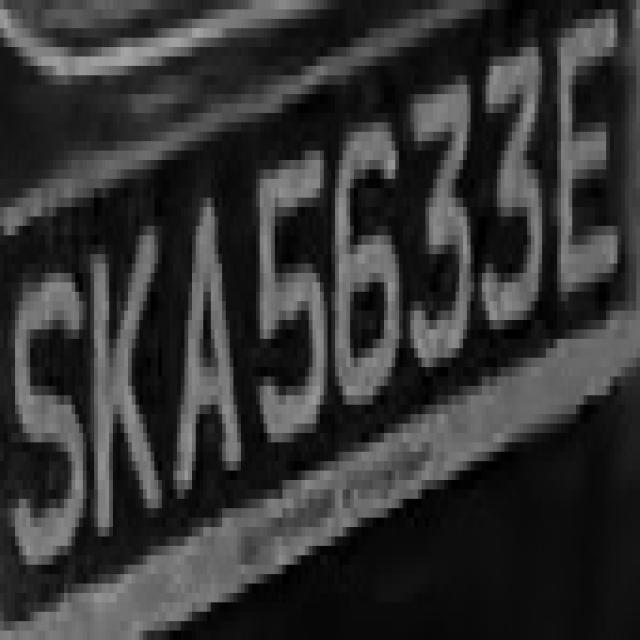3: (396, 66, 490, 395), (482, 47, 538, 367)
5: (256, 113, 331, 471)
6: (320, 103, 399, 433)
A: (162, 188, 245, 480)
E: (554, 10, 632, 302)
K: (79, 207, 169, 537)
S: (15, 226, 90, 593)
